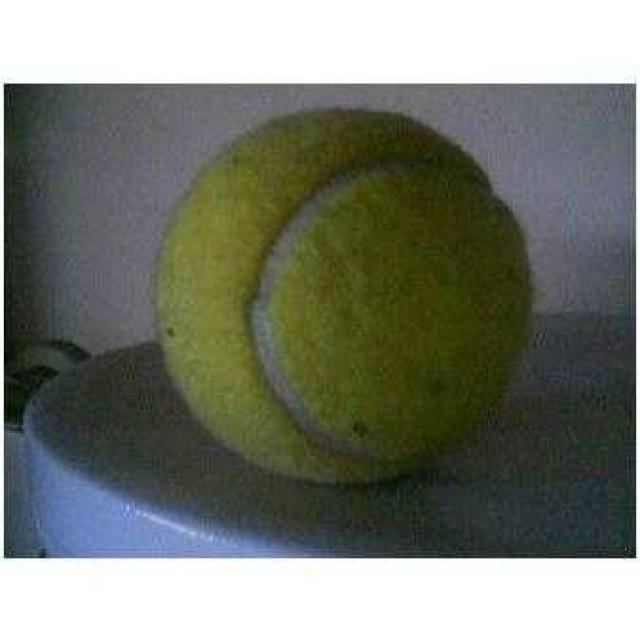Tennis_Ball: (154, 105, 522, 481)
